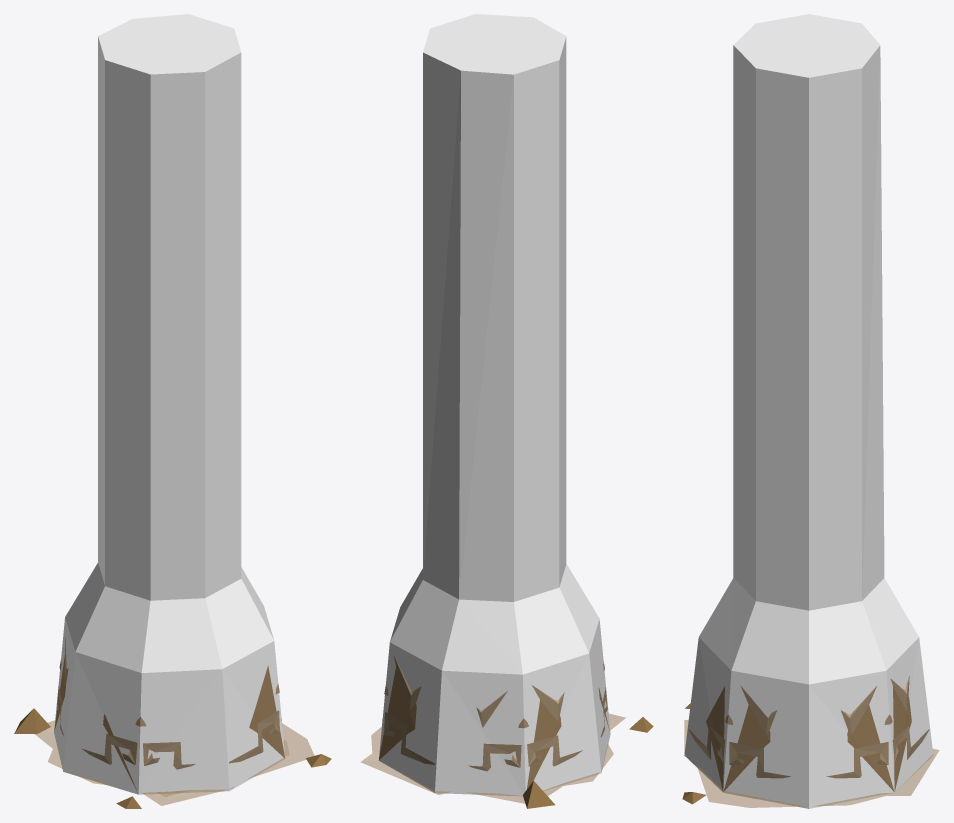
The model's file is vale-totems.gltf.
3 renders of one model, left to right at view 1: azimuth 30°, elevation 25°; view 2: azimuth 150°, elevation 25°; view 3: azimuth 270°, elevation 25°, orthographic.
Size of the model in its own units: 125 by 384 by 126.
2 materials, 2 textured.
